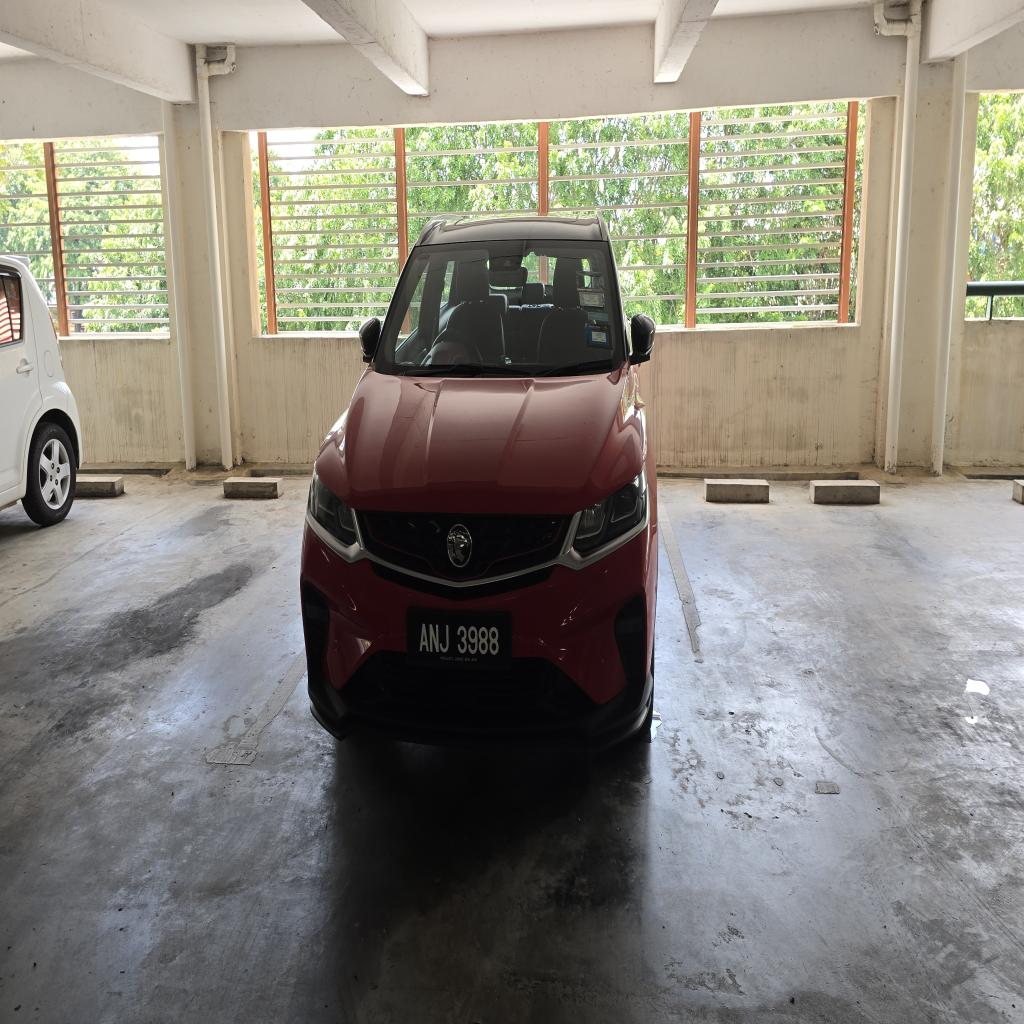car: (301, 217, 657, 749)
car plate: (407, 609, 511, 668)
